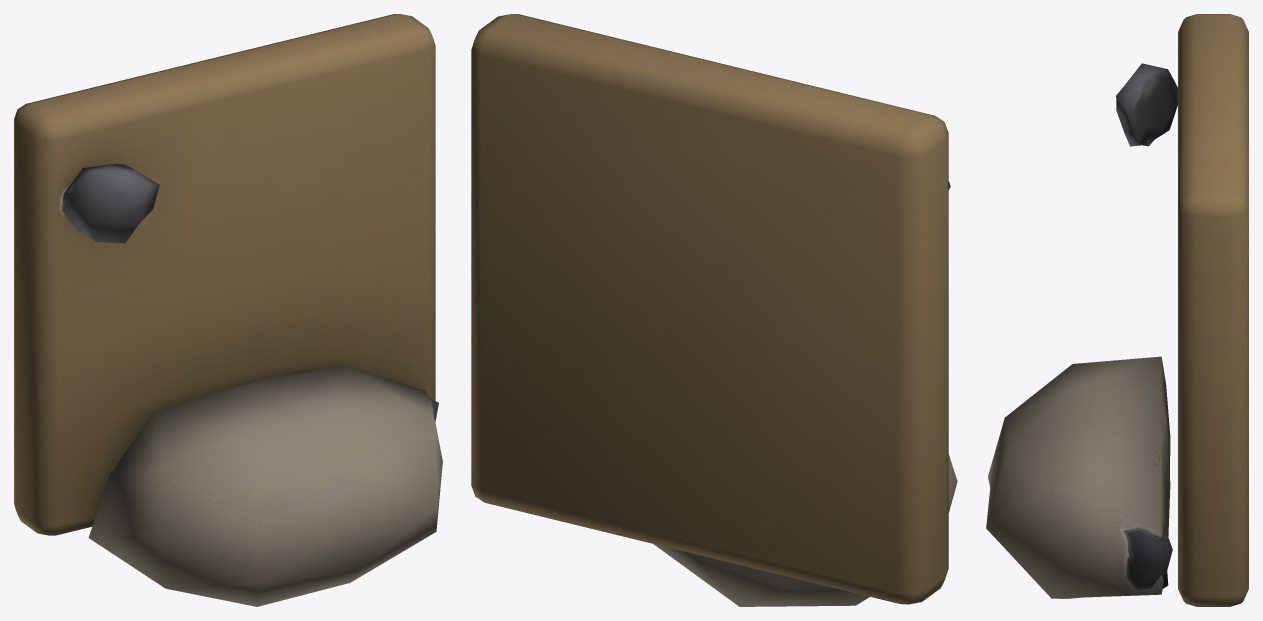
The model's file is tile_rock_a.glb.
3 views of the same model, side by side, from view 1: azimuth 30°, elevation 25°; view 2: azimuth 150°, elevation 25°; view 3: azimuth 270°, elevation 25° (orthographic). The views are drawn at different scales.
Parts seen in each view (by area): view 1: tile_rock_a; view 2: tile_rock_a; view 3: tile_rock_a.
Boxes of the visible parts, left/top/right/bottom form: tile_rock_a: left=14, top=14, right=442, bottom=606; tile_rock_a: left=471, top=14, right=957, bottom=606; tile_rock_a: left=986, top=14, right=1248, bottom=606.
Bounding box in the file's own units: 1.94 × 2.27 × 1.11.
1 material, 1 textured.
